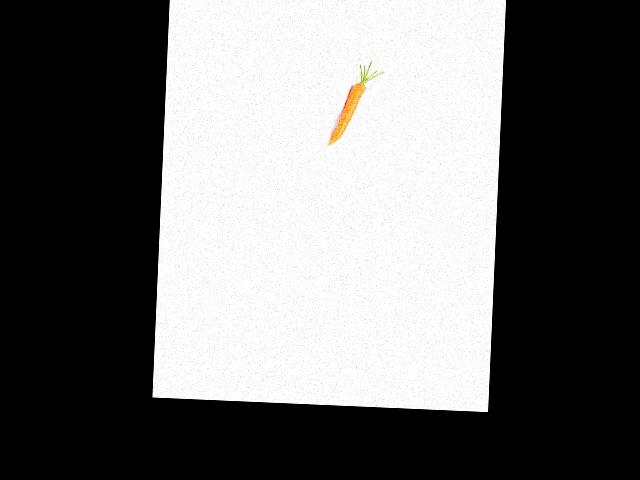carrot: (326, 73, 371, 149)
